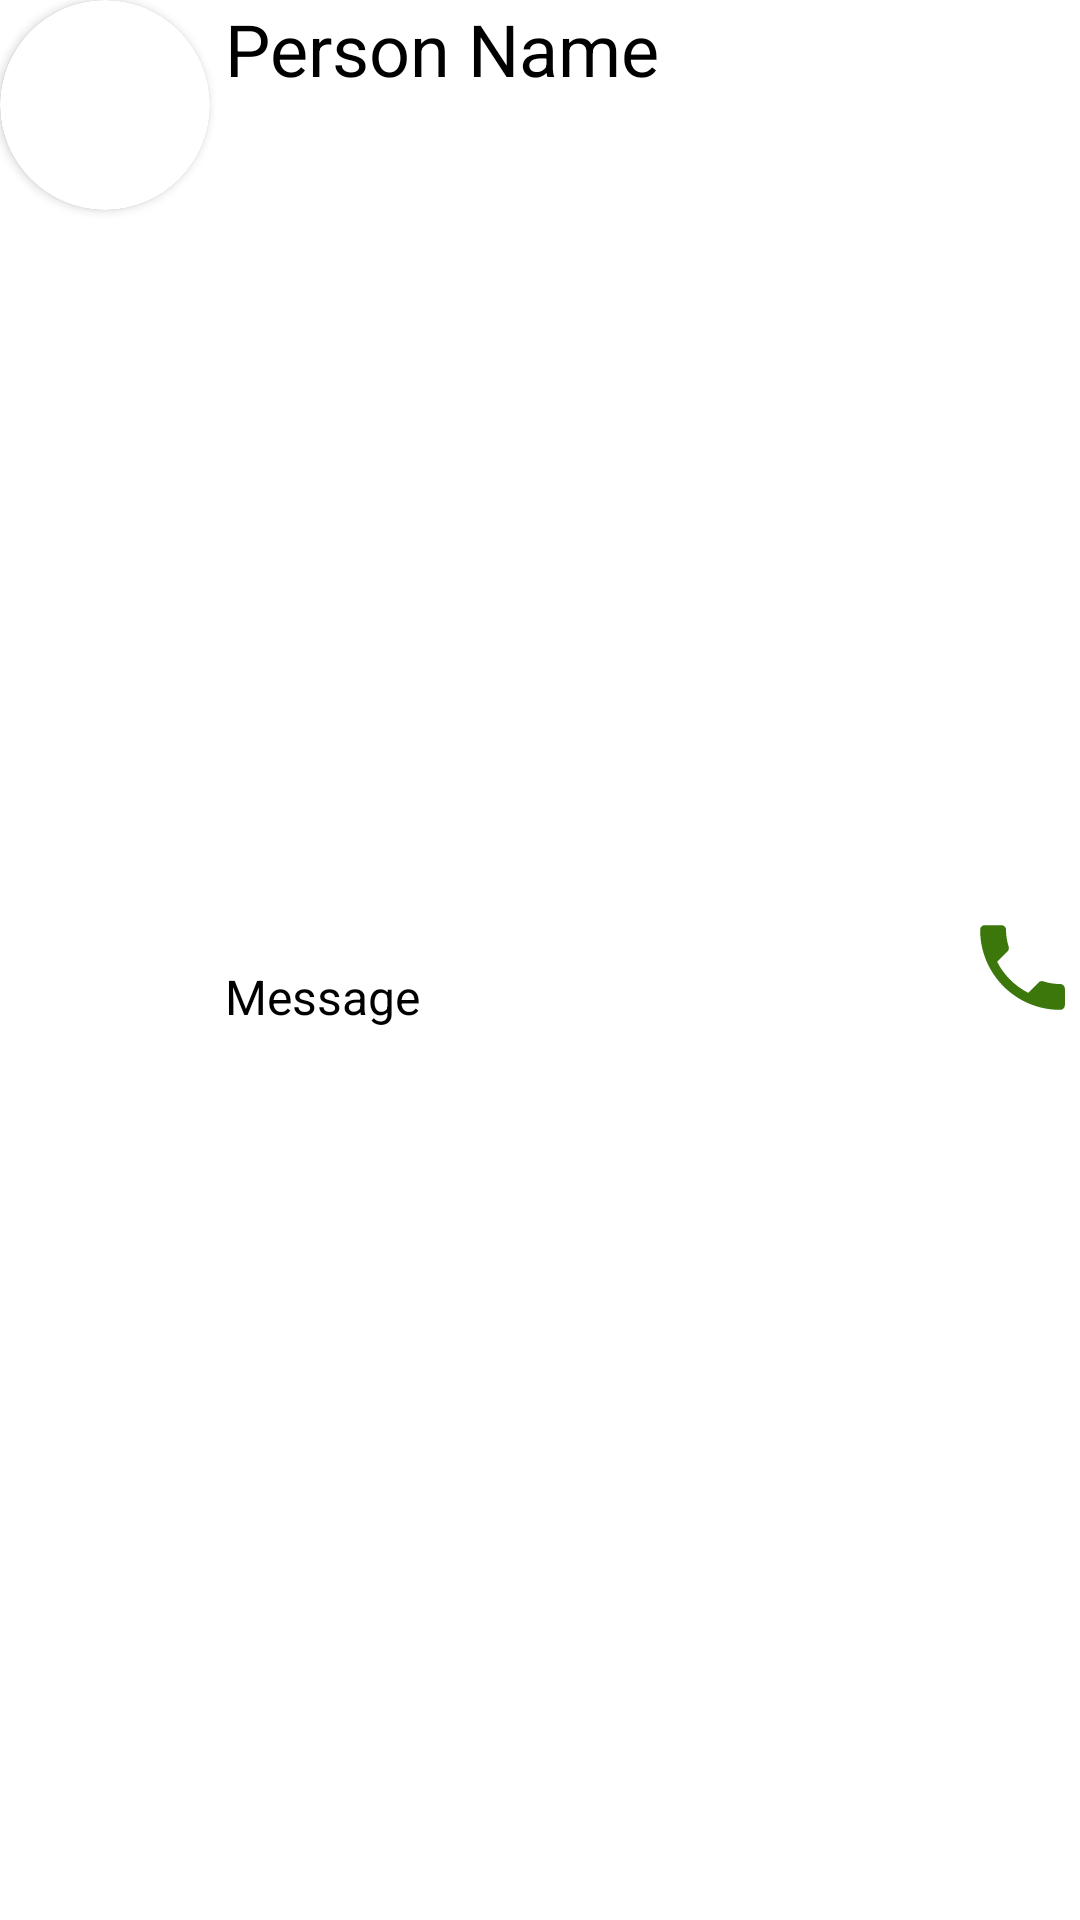

Icon bounding boxes for this 1080 × 1920 phone screenshot, format (x1, y1, x2, y2):
phone: (980, 925, 1065, 1010)
